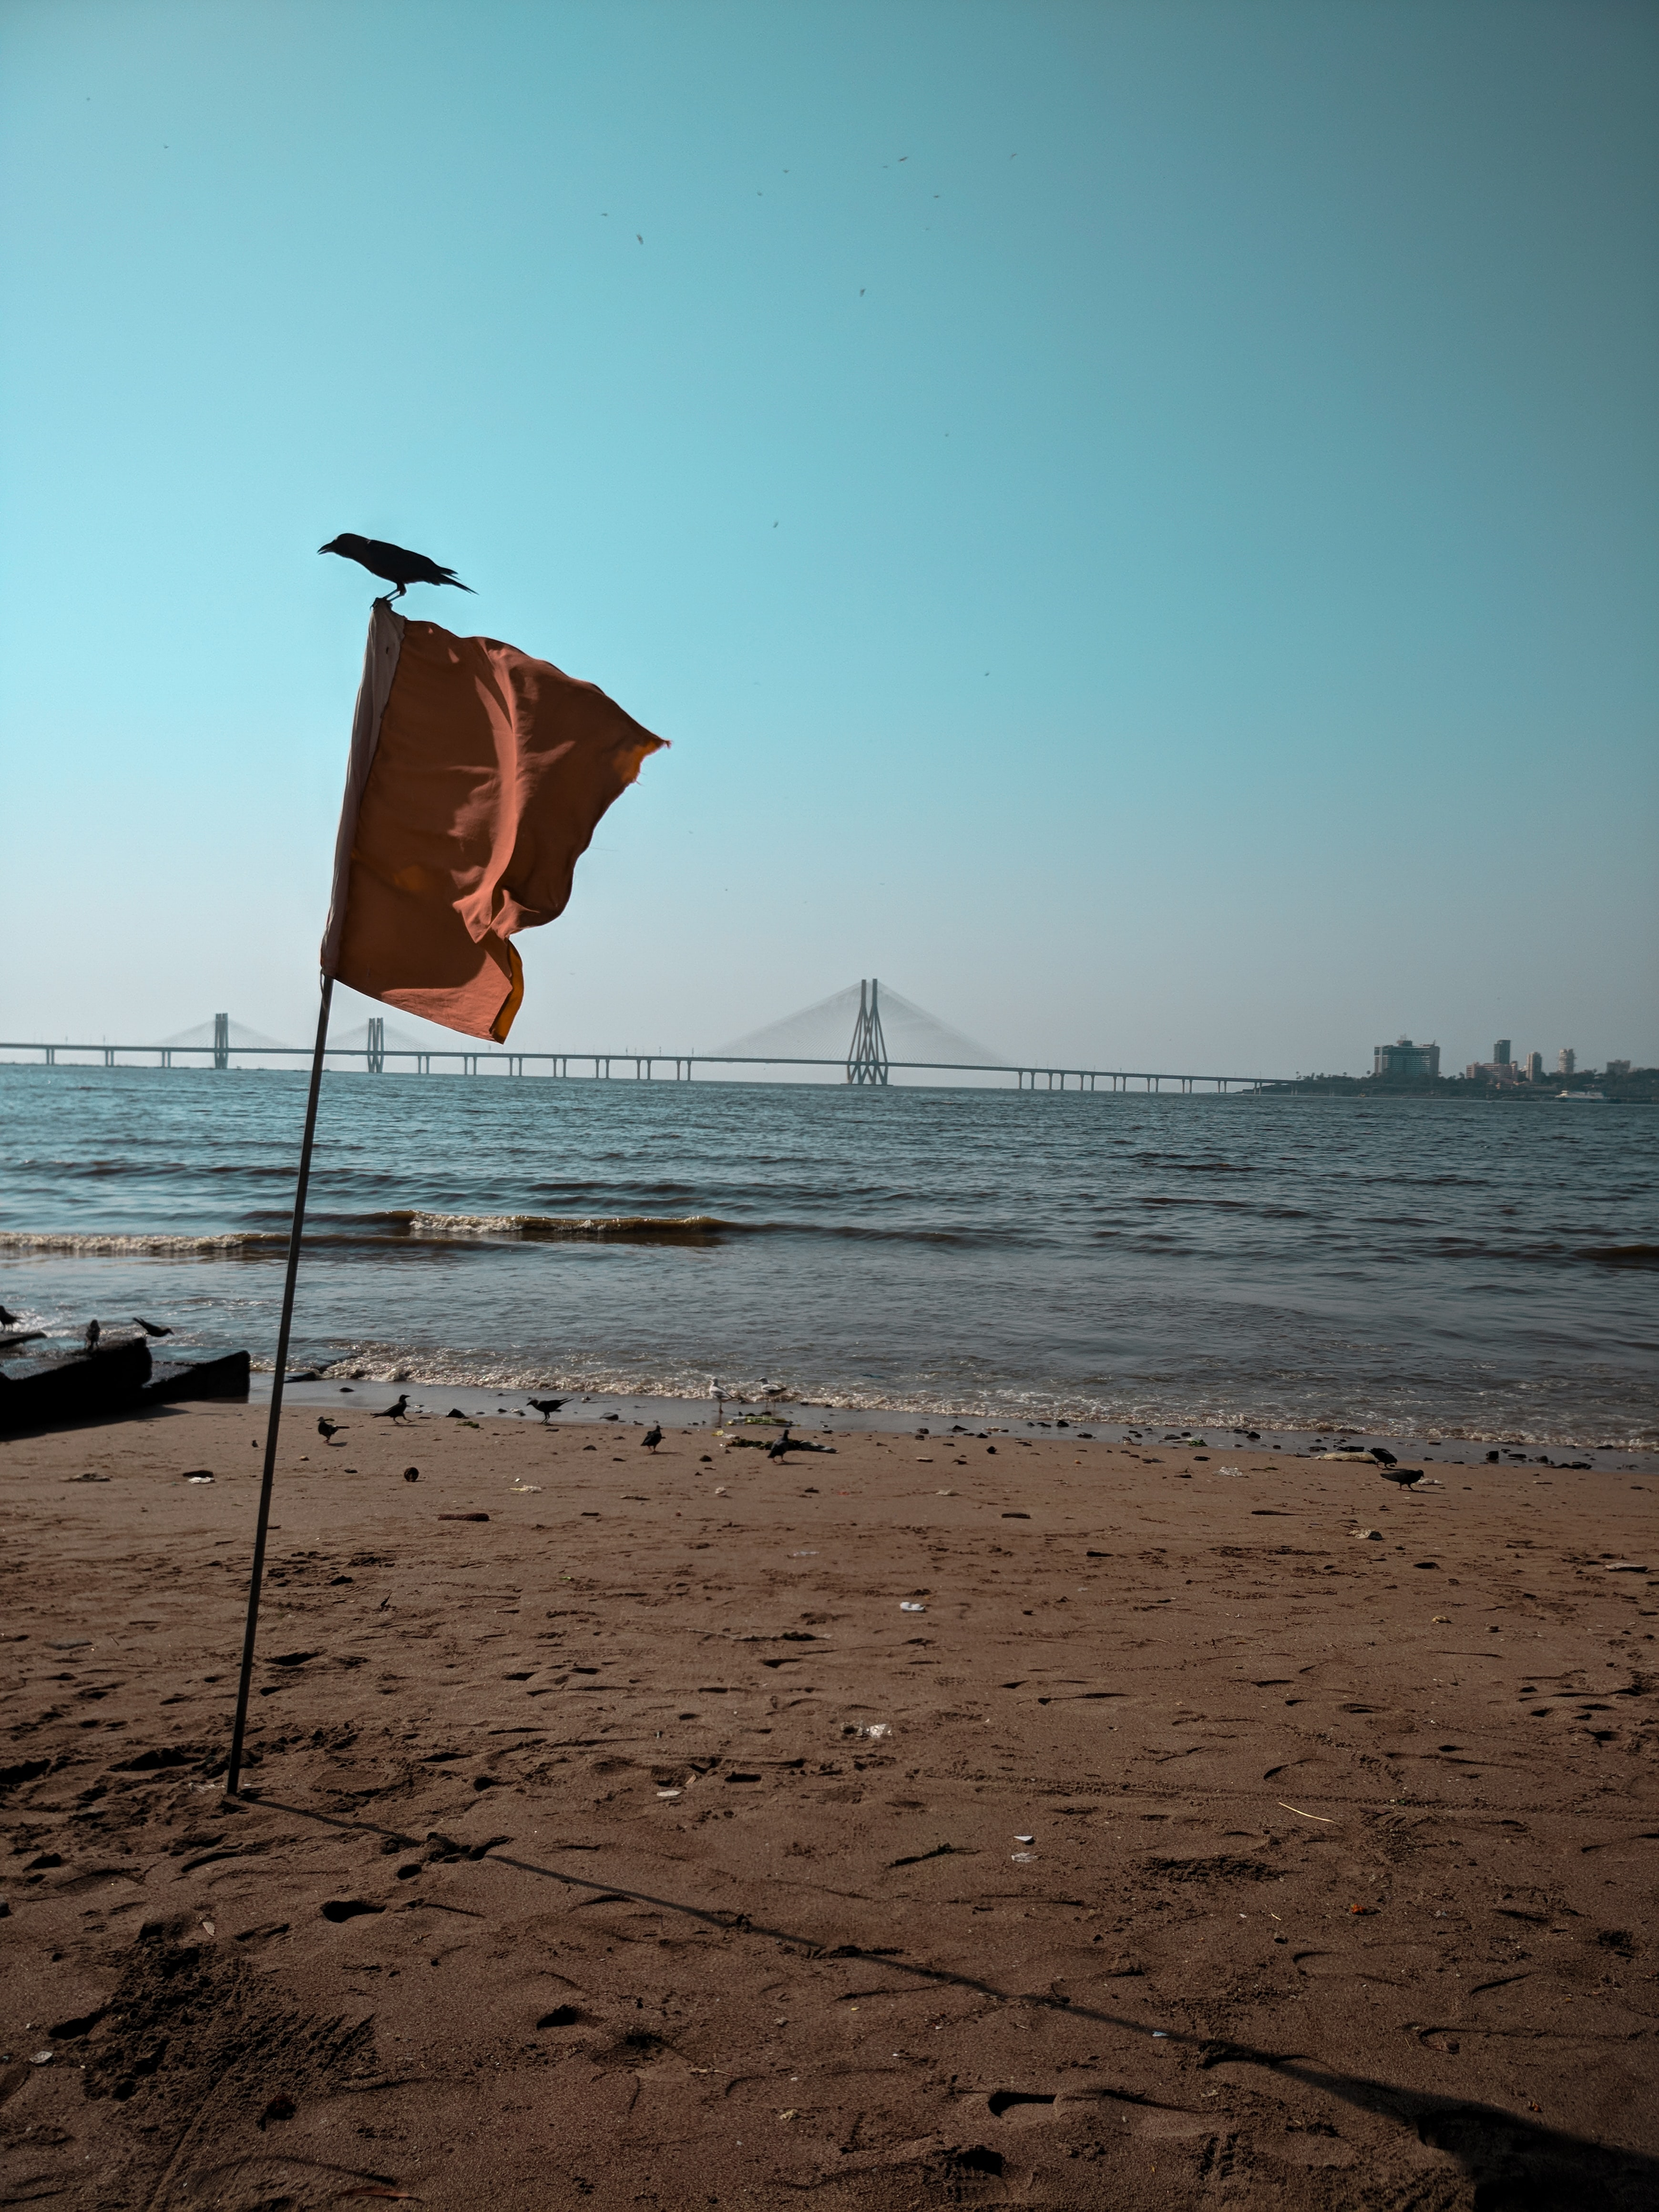Flag: (322, 596, 669, 1054)
